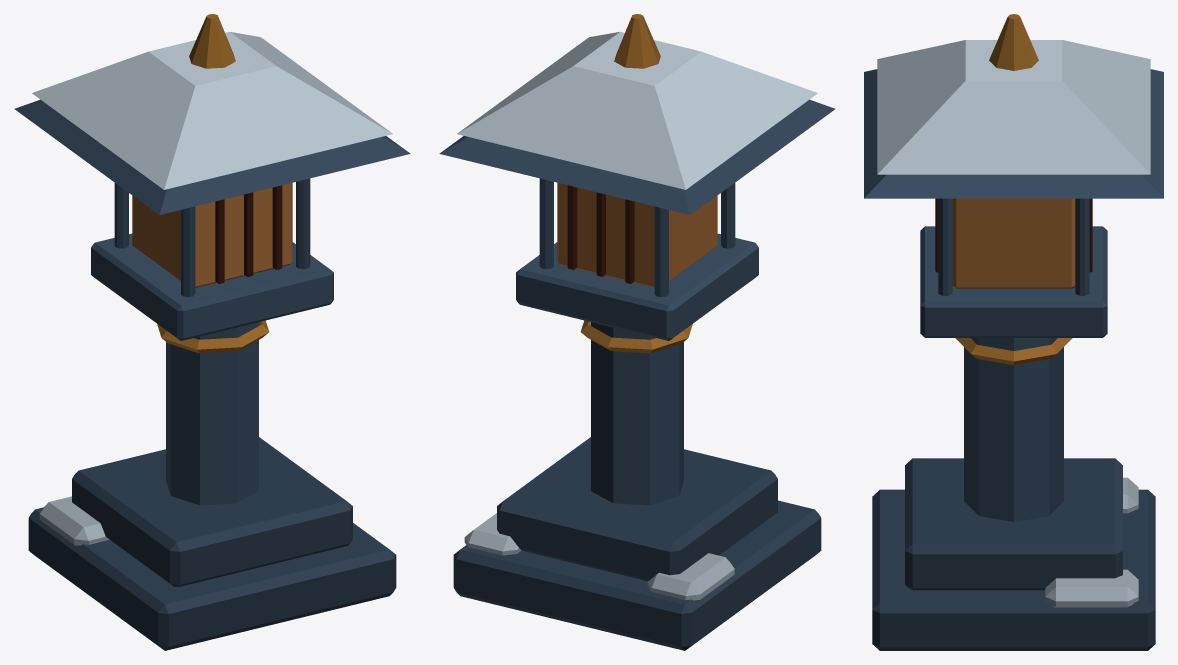
Rendered from BO_SM_Prop_FrostShrine_v002.glb.
The picture shows the model from 3 angles, left to right: view 1: azimuth 30°, elevation 25°; view 2: azimuth 150°, elevation 25°; view 3: azimuth 270°, elevation 25°; orthographic projection. The views are drawn at different scales.
Parts seen in each view (by area): view 1: SM_Prop_FrostShrine_LOD0; view 2: SM_Prop_FrostShrine_LOD0; view 3: SM_Prop_FrostShrine_LOD0.
Part boxes in pixels (x1,y1,x2,y2): SM_Prop_FrostShrine_LOD0: (14,14,410,650); SM_Prop_FrostShrine_LOD0: (439,14,835,650); SM_Prop_FrostShrine_LOD0: (864,14,1163,650).
Size of what is drawn, in the model's own units: 0.9617 by 2.04 by 0.9617.
